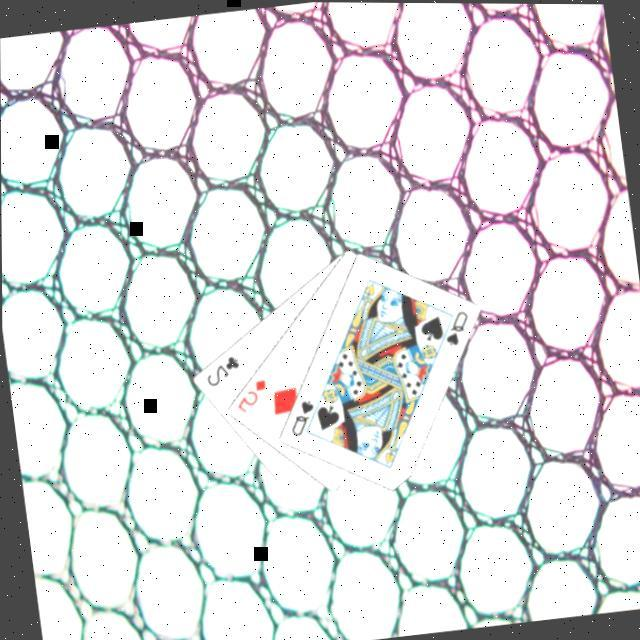2C: (198, 352, 242, 392)
5D: (228, 375, 270, 417)
QS: (280, 396, 318, 440), (436, 307, 472, 350)
